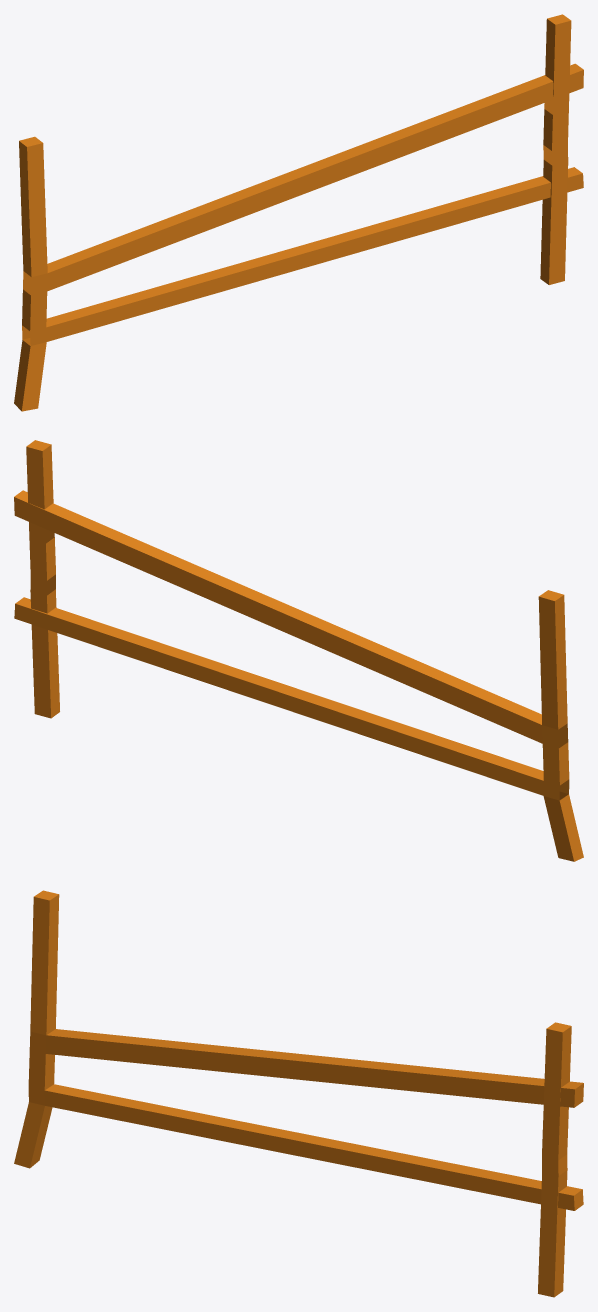
File: wooden_fence3.fbx
The picture shows the model from 3 angles, top to bottom: view 1: azimuth 30°, elevation 25°; view 2: azimuth 150°, elevation 25°; view 3: azimuth 330°, elevation 25°; orthographic projection. The views are drawn at different scales.
Parts seen in each view (by area): view 1: Wooden_fence; view 2: Wooden_fence; view 3: Wooden_fence.
Part boxes in pixels (box(x1,y1,x2,y2)): Wooden_fence: box(14, 14, 583, 411); Wooden_fence: box(14, 440, 583, 861); Wooden_fence: box(14, 890, 583, 1297).
Size of the model in its own units: 902 by 415 by 72.09.
